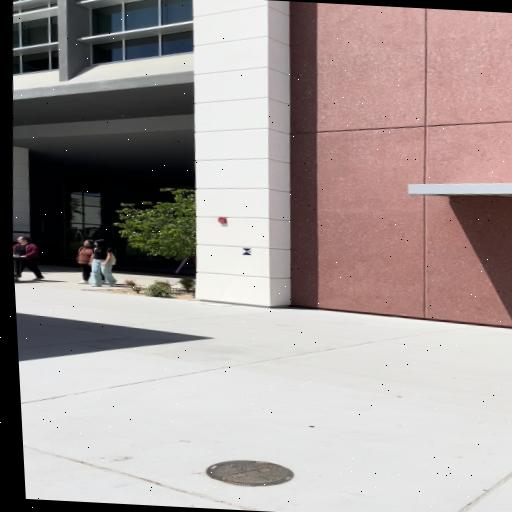target6: (241, 248, 252, 255)
